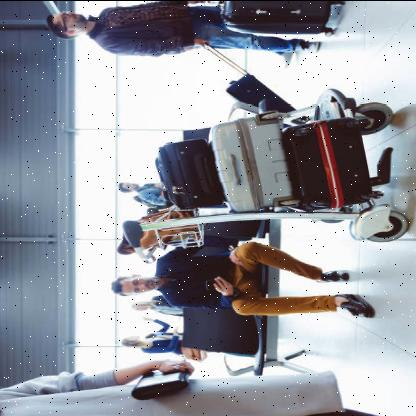airport-trolley: (122, 84, 413, 254)
